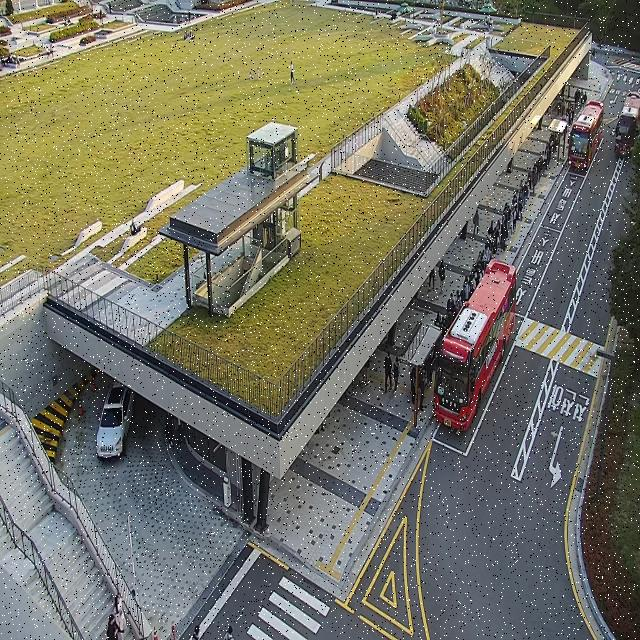queue: (414, 94, 574, 430)
